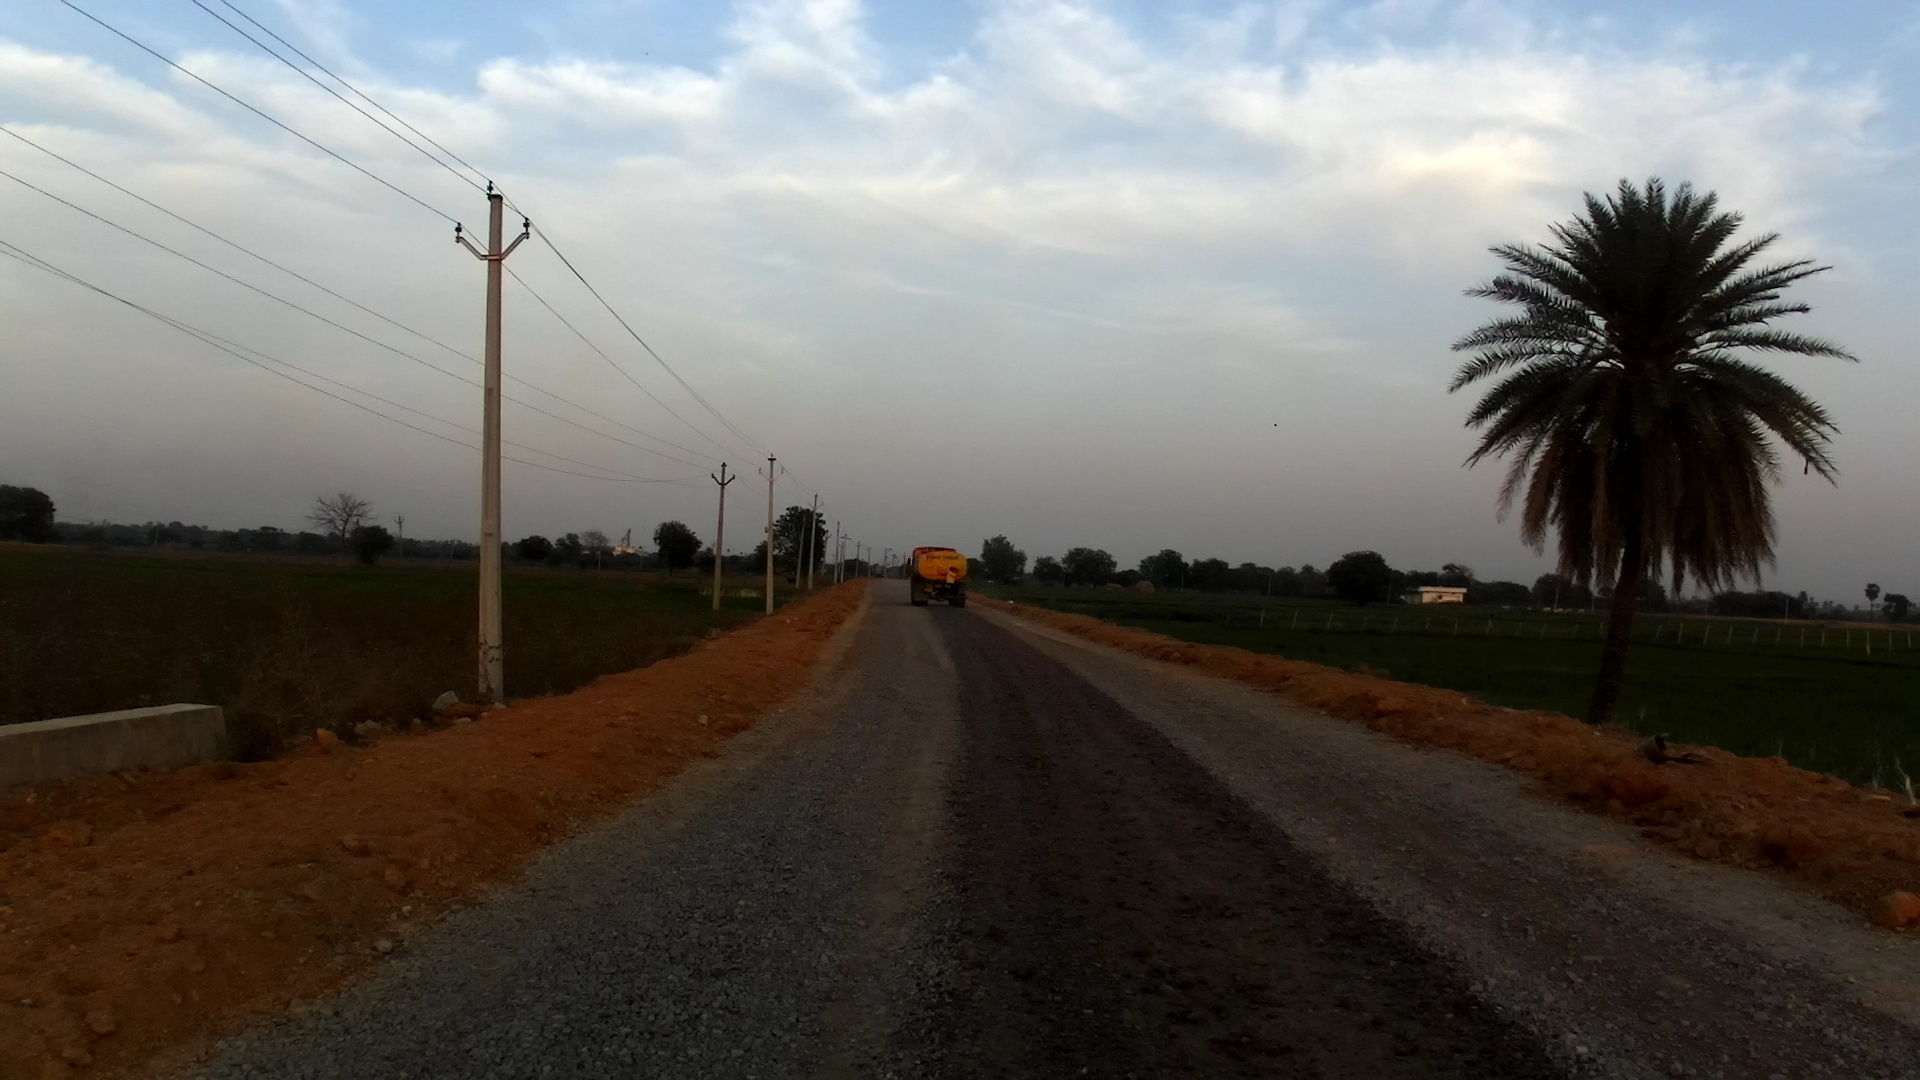truck: (907, 541, 971, 611)
